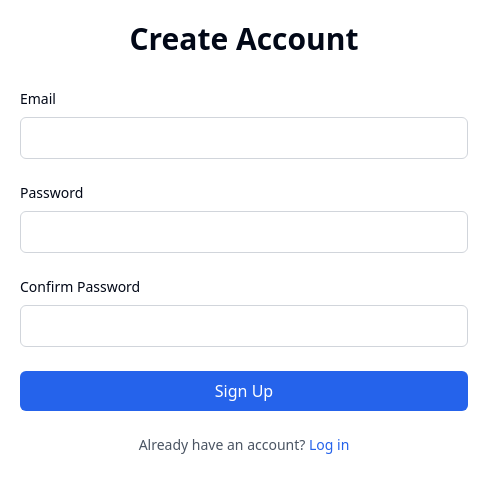
Test: RegisterPage › validates password match
The width and height of the screenshot is (489, 483).
Type "test@example.com" into the field labelled "Email".
click(244, 138); type("test@example.com")  # box [20,117,468,159]
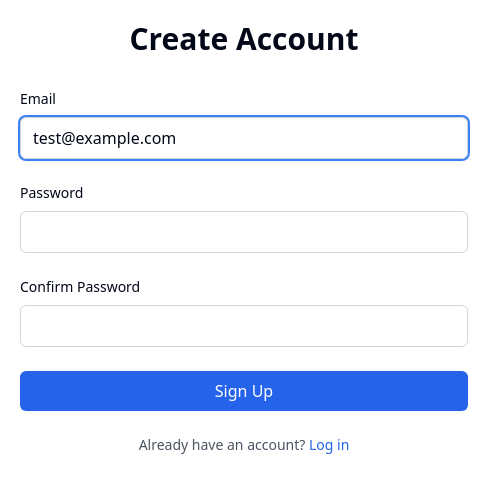
Type "password123" into the password field labelled "Password".
click(244, 232); type("password123")  # box [20,211,468,253]
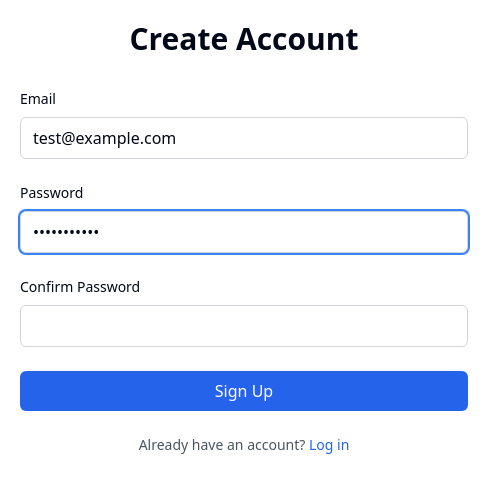
Type "different456" into the password field labelled "Confirm Password".
click(244, 326); type("different456")  # box [20,305,468,347]
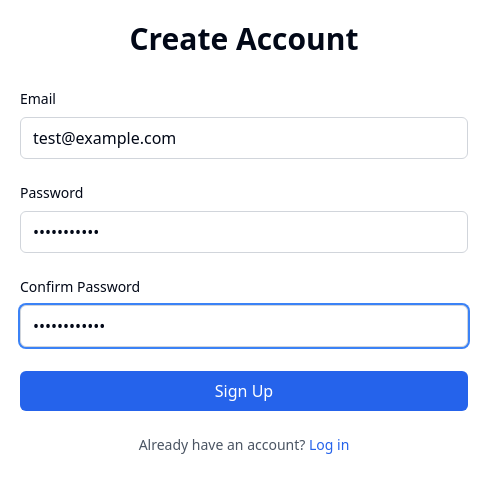
Click the button "Sign Up".
click(244, 391)  # box [20,371,468,411]
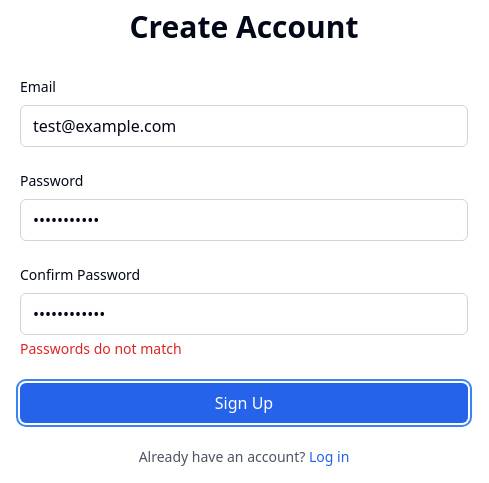
Now the text "Passwords do not match" is shown, box [20,339,182,358]
